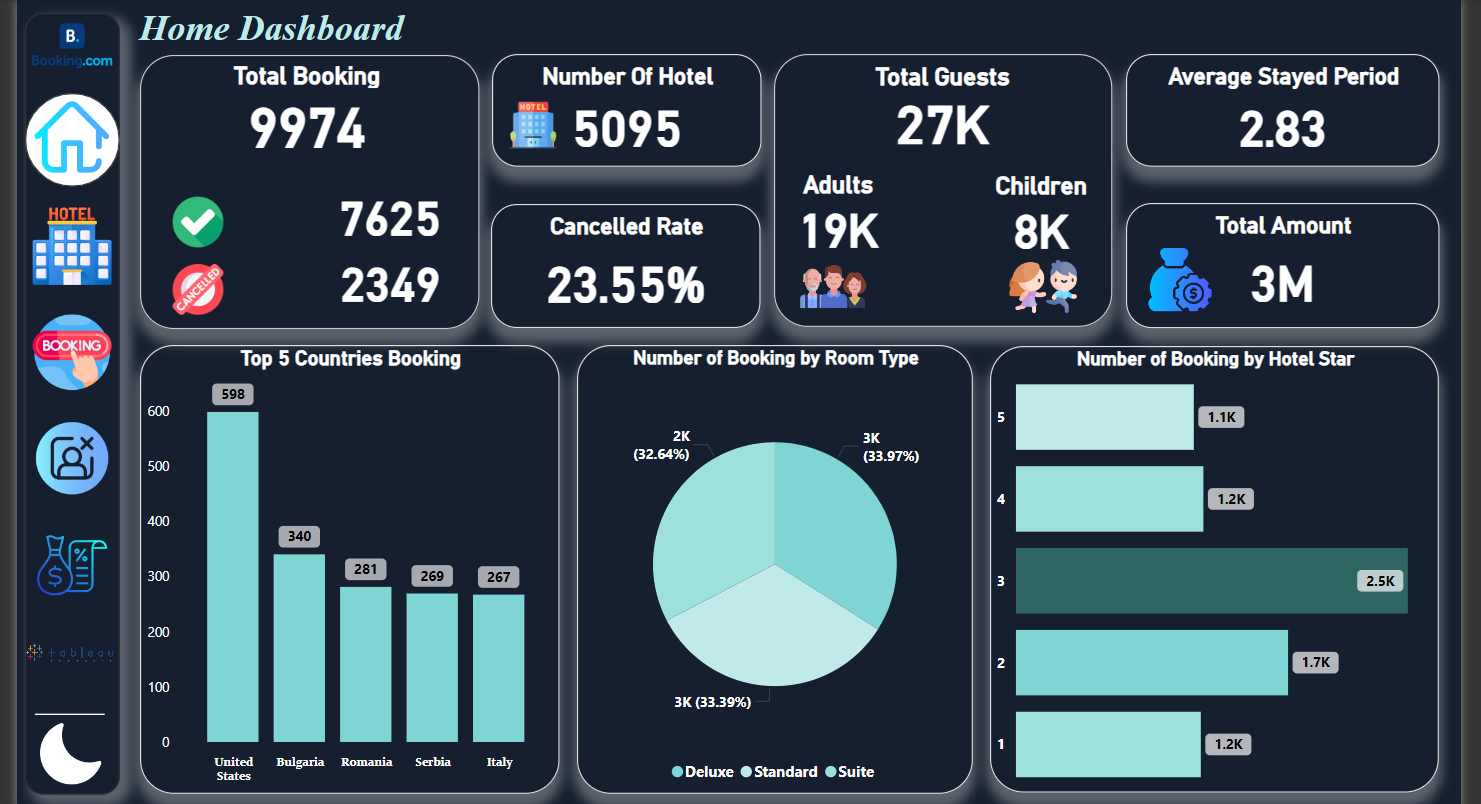

The page's visual inventory and layout, read from the dashboard file:
{"tool":"tableau","page":{"name":"Overview Dashboard","canvas":[1450,830],"ordinal":3},"visuals":[{"type":"image","param":"Image/OverView.jpg","box":[8,8,1434,814]},{"type":"image","param":"Image/choose.png","box":[87,29,47,39]},{"type":"text","box":[474,34,273,34]},{"type":"text","box":[62,72,100,30]},{"type":"worksheet","title":"Top 5 nationality( Guest) (3)","mark":"Pie","box":[848,89,564,364]},{"type":"image","param":"Image/hotel.png","box":[490,104,41,40]},{"type":"image","param":"Image/revenue.png","box":[684,104,43,41]},{"type":"image","param":"Image/booking.png","box":[299,105,38,43]},{"type":"worksheet","title":"Total Amount over Bookings (Booking) (2)","mark":"Automatic","box":[625,113,167,94]},{"type":"worksheet","title":"No. Hotels (Hotel) (2)","mark":"Automatic","box":[445,123,135,69]},{"type":"worksheet","title":"No. Booking (Booking) (2)","mark":"Automatic","box":[253,129,132,63]},{"type":"dashboard-object","box":[27,137,174,52]},{"type":"image","param":"Image/children.png","box":[681,211,52,49]},{"type":"worksheet","title":"Total Children(Booking) (2)","mark":"Automatic","box":[634,212,143,118]},{"type":"image","param":"Image/couple.png","box":[485,213,54,51]},{"type":"image","param":"Image/guests.png","box":[297,214,48,49]},{"type":"dashboard-object","box":[27,215,174,47]},{"type":"worksheet","title":"No. Guests (Guest) (2)","mark":"Automatic","box":[251,231,140,85]},{"type":"worksheet","title":"Total Audlts (Booking) (2)","mark":"Automatic","box":[432,234,162,79]},{"type":"dashboard-object","box":[27,291,174,47]},{"type":"image","param":"Image/schedule.png","box":[382,343,46,47]},{"type":"image","param":"Image/rating.png","box":[606,346,44,43]},{"type":"worksheet","title":"sum of total night (Booking) (2)","mark":"Automatic","box":[336,363,140,69]},{"type":"dashboard-object","box":[27,366,174,47]},{"type":"worksheet","title":"No. Reviews (Review) (2)","mark":"Automatic","box":[535,366,188,71]},{"type":"dashboard-object","box":[27,448,174,47]},{"type":"worksheet","title":"No. Booking By Reservation Source ","mark":"Pie","rows":["Calculation_673288202718617603","Calculation_673288202718617603"],"box":[858,459,548,351]},{"type":"worksheet","title":"Top Hotel Booked By Guests ","mark":"Automatic","rows":["hotel_name"],"cols":["Guest_id_BK"],"box":[246,463,537,336]},{"type":"blank","box":[51,521,123,2]},{"type":"text","box":[76,527,92,34]},{"type":"dashboard-object","box":[69,579,76,39]},{"type":"dashboard-object","box":[117,580,91,39]},{"type":"blank","box":[51,637,123,2]},{"type":"text","box":[47,645,144,25]},{"type":"image","param":"Image/Microsoft-Power-BI-Symbol.png","box":[74,685,77,62]}]}

Visuals, with their boxes on the page's 1450x830 design canvas (x1, y1, x2, y2). These are canvas units, not pixel positions in the 1481x804 screenshot, which may show the page scaled, cropped or inside an application window:
image: pyautogui.locateOnScreen(8, 8, 1442, 822)
image: pyautogui.locateOnScreen(87, 29, 134, 68)
text: pyautogui.locateOnScreen(474, 34, 747, 68)
text: pyautogui.locateOnScreen(62, 72, 162, 102)
"Top 5 nationality( Guest) (3)" worksheet (Pie marks): pyautogui.locateOnScreen(848, 89, 1412, 453)
image: pyautogui.locateOnScreen(490, 104, 531, 144)
image: pyautogui.locateOnScreen(684, 104, 727, 145)
image: pyautogui.locateOnScreen(299, 105, 337, 148)
"Total Amount over Bookings (Booking) (2)" worksheet: pyautogui.locateOnScreen(625, 113, 792, 207)
"No. Hotels (Hotel) (2)" worksheet: pyautogui.locateOnScreen(445, 123, 580, 192)
"No. Booking (Booking) (2)" worksheet: pyautogui.locateOnScreen(253, 129, 385, 192)
dashboard-object: pyautogui.locateOnScreen(27, 137, 201, 189)
image: pyautogui.locateOnScreen(681, 211, 733, 260)
"Total Children(Booking) (2)" worksheet: pyautogui.locateOnScreen(634, 212, 777, 330)
image: pyautogui.locateOnScreen(485, 213, 539, 264)
image: pyautogui.locateOnScreen(297, 214, 345, 263)
dashboard-object: pyautogui.locateOnScreen(27, 215, 201, 262)
"No. Guests (Guest) (2)" worksheet: pyautogui.locateOnScreen(251, 231, 391, 316)
"Total Audlts (Booking) (2)" worksheet: pyautogui.locateOnScreen(432, 234, 594, 313)
dashboard-object: pyautogui.locateOnScreen(27, 291, 201, 338)
image: pyautogui.locateOnScreen(382, 343, 428, 390)
image: pyautogui.locateOnScreen(606, 346, 650, 389)
"sum of total night (Booking) (2)" worksheet: pyautogui.locateOnScreen(336, 363, 476, 432)
dashboard-object: pyautogui.locateOnScreen(27, 366, 201, 413)
"No. Reviews (Review) (2)" worksheet: pyautogui.locateOnScreen(535, 366, 723, 437)
dashboard-object: pyautogui.locateOnScreen(27, 448, 201, 495)
"No. Booking By Reservation Source " worksheet (Pie marks): pyautogui.locateOnScreen(858, 459, 1406, 810)
"Top Hotel Booked By Guests " worksheet: pyautogui.locateOnScreen(246, 463, 783, 799)
blank: pyautogui.locateOnScreen(51, 521, 174, 523)
text: pyautogui.locateOnScreen(76, 527, 168, 561)
dashboard-object: pyautogui.locateOnScreen(69, 579, 145, 618)
dashboard-object: pyautogui.locateOnScreen(117, 580, 208, 619)
blank: pyautogui.locateOnScreen(51, 637, 174, 639)
text: pyautogui.locateOnScreen(47, 645, 191, 670)
image: pyautogui.locateOnScreen(74, 685, 151, 747)
